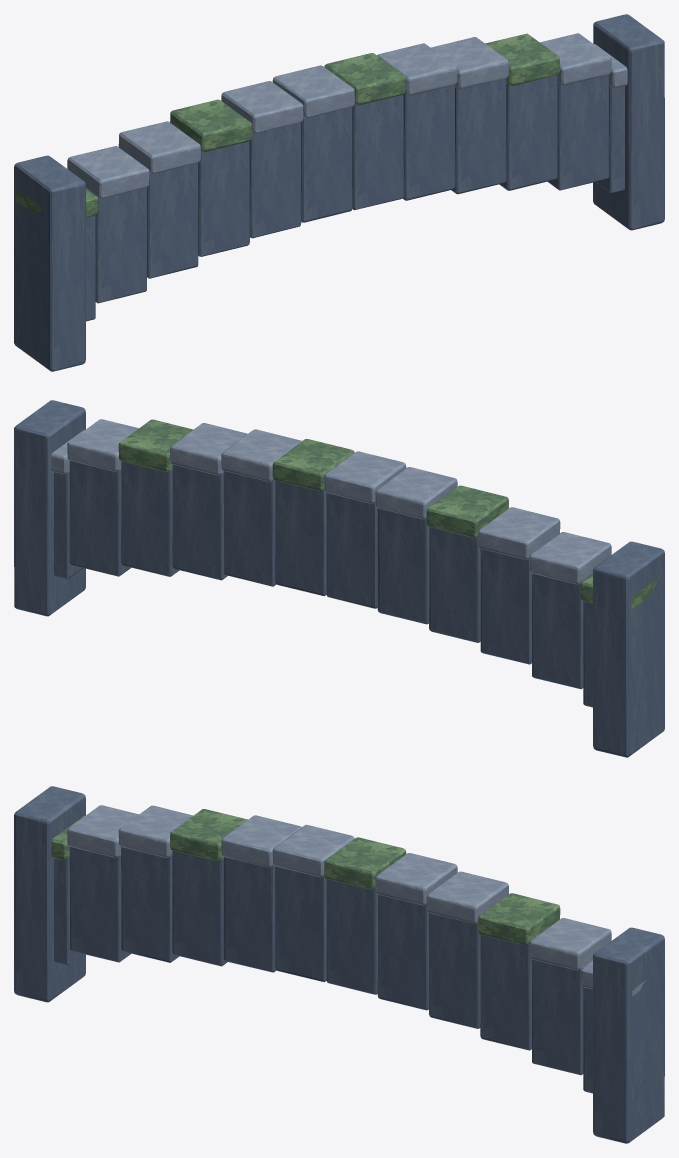
File: bridge.glb
The picture shows the model from 3 angles, top to bottom: view 1: azimuth 30°, elevation 25°; view 2: azimuth 150°, elevation 25°; view 3: azimuth 330°, elevation 25°; orthographic projection.
Parts seen in each view (by area): view 1: bridge; view 2: bridge; view 3: bridge.
Boxes of the visible parts, x1,y1,x2,y2 form: bridge: (14,14,664,371); bridge: (14,400,664,757); bridge: (14,786,664,1143).
Size of the model in its own units: 4 by 1.3 by 0.4277.
Materials: 1 (1 with a texture image).
